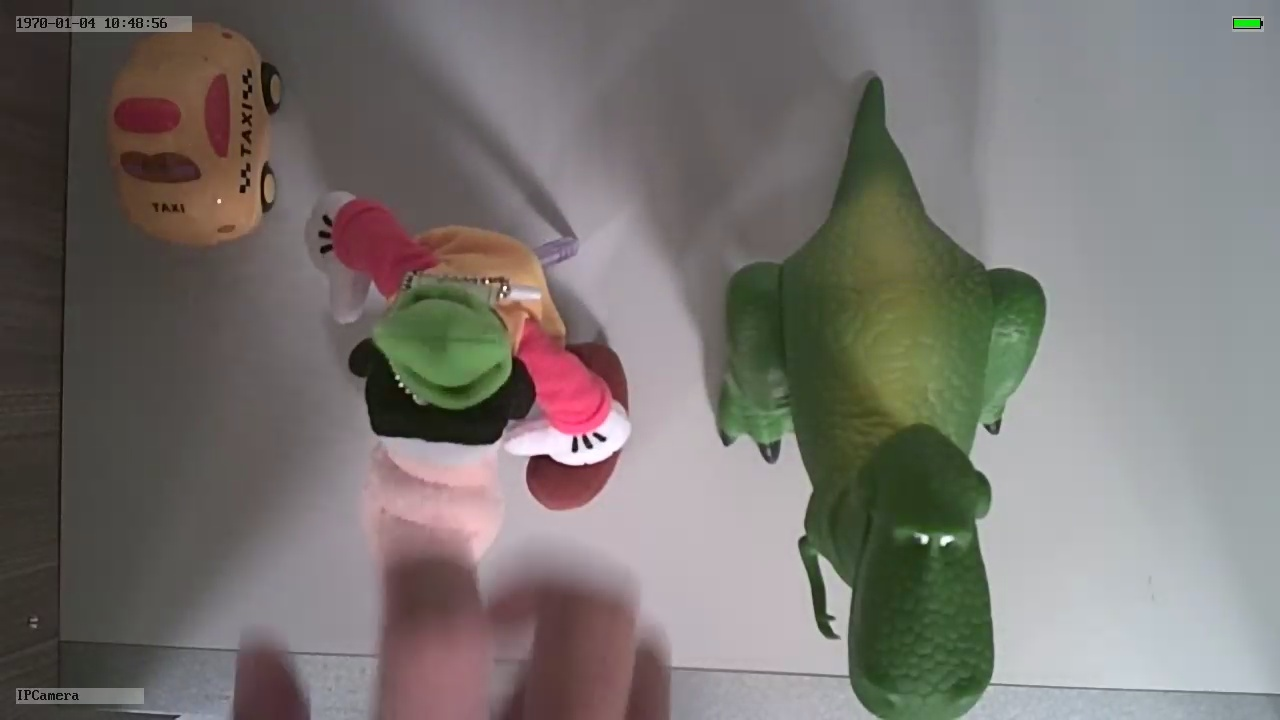car: (109, 21, 281, 246)
rex: (717, 167, 1054, 720)
